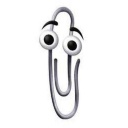Metal: (12, 3, 84, 121)
